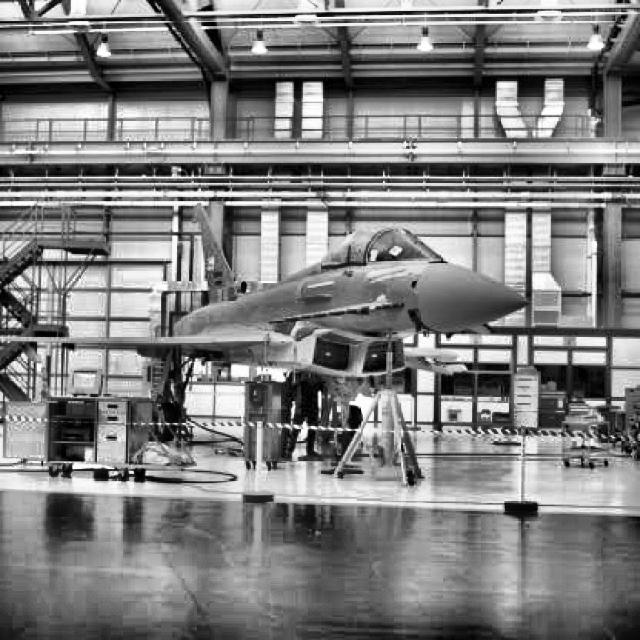EF2000: (1, 202, 532, 462)
